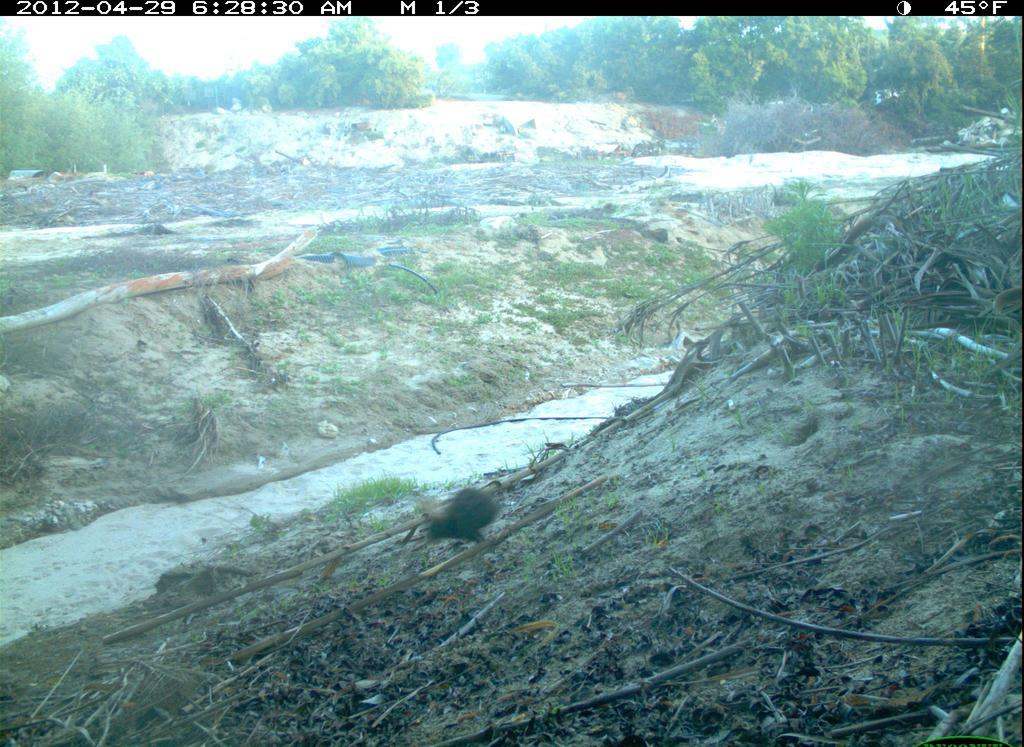rabbit: (381, 466, 536, 564)
